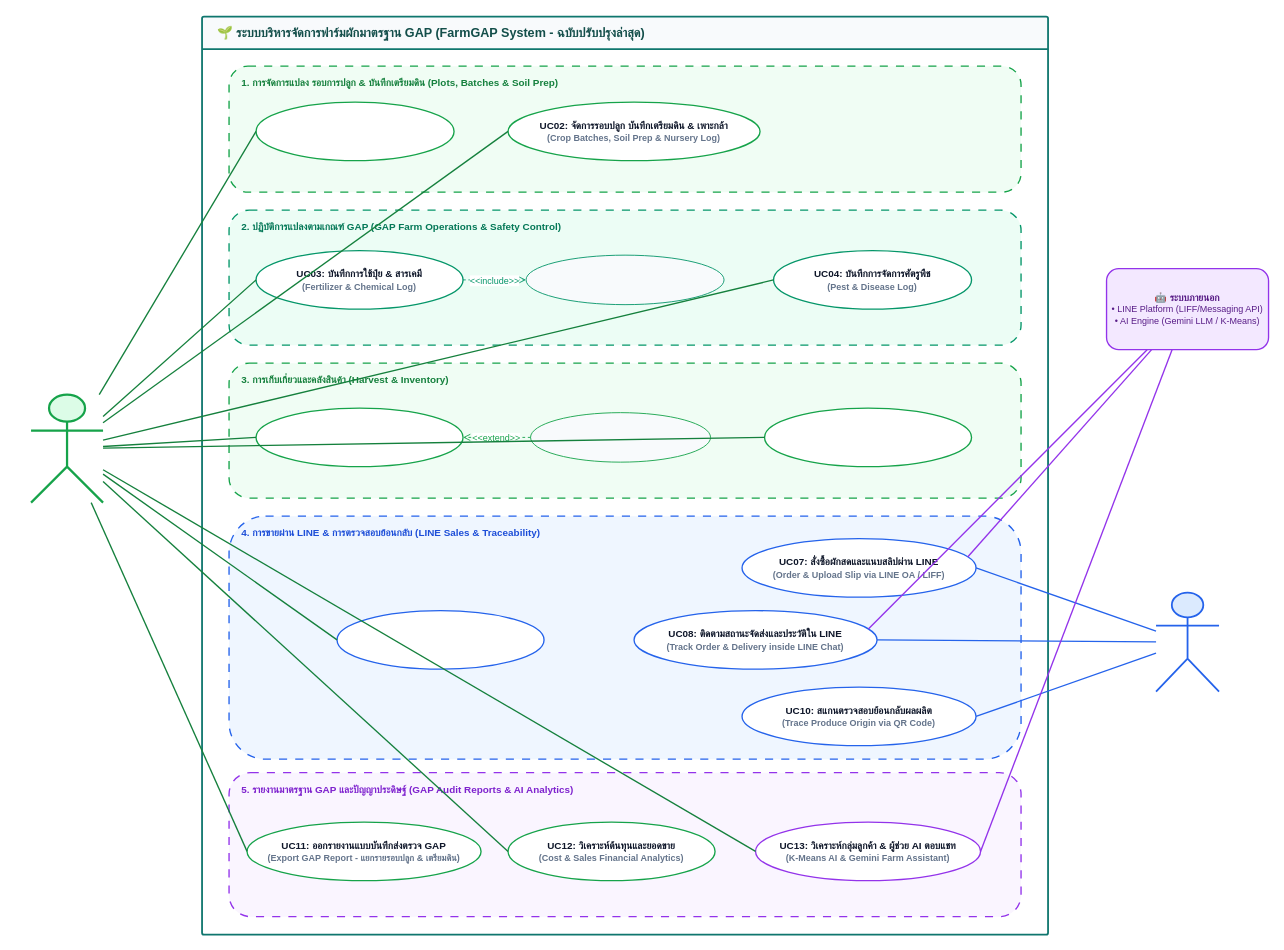
The diagram is 1284 pixels wide and 950 high, and some of its shapes have lost their labels. Each missing label, with the centre of its shape:
UC01: จัดการแปลงและแคร่ปลูก (Manage Plots & Raised Beds): (354,131)
UC05: บันทึกการเก็บเกี่ยวผลผลิต (Harvest Crop & Lot Generation): (359,437)
UC06: จัดการสต็อกสินค้าและราคา (Products, Pricing & Storage): (867,437)
UC09: จัดการออเดอร์ & พิมพ์ใบปะหน้า (Manage Orders & Shipping Label): (440,639)
คำนวณระยะปลอดภัยก่อนเก็บเกี่ยว (PHI) (Calculate Safe Harvest Date): (624,279)
นำเข้าสต็อกสินค้าพร้อมขายทันที (Auto Stock to Inventory): (620,437)
🛒 ลูกค้า / ผู้บริโภค (Customer / Consumer): (1187,641)
🧑‍🌾 เจ้าของฟาร์ม / เกษตรกร (Farm Owner / Farmer): (67,448)
